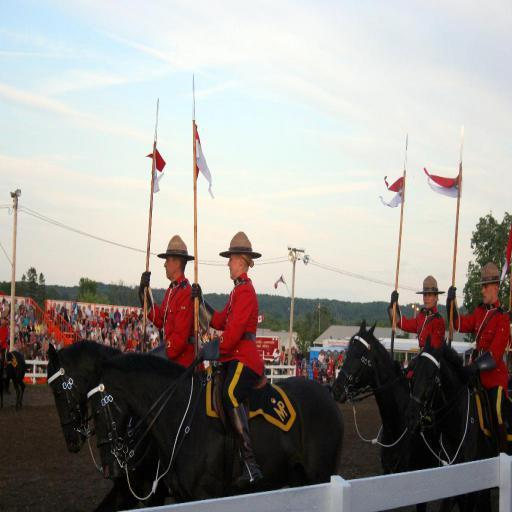horse: (85, 355, 344, 503), (45, 341, 201, 506), (330, 318, 444, 512), (404, 332, 511, 511), (44, 342, 124, 458), (86, 376, 133, 481), (0, 350, 29, 408)
